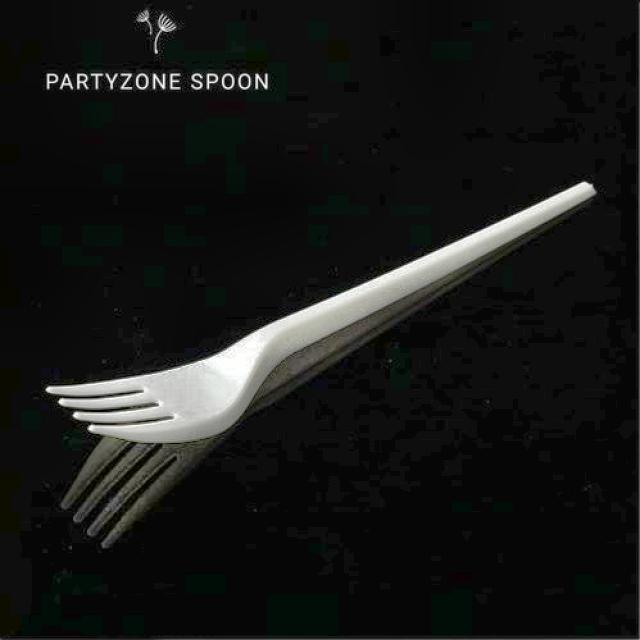plastic utensil: (45, 177, 601, 466)
